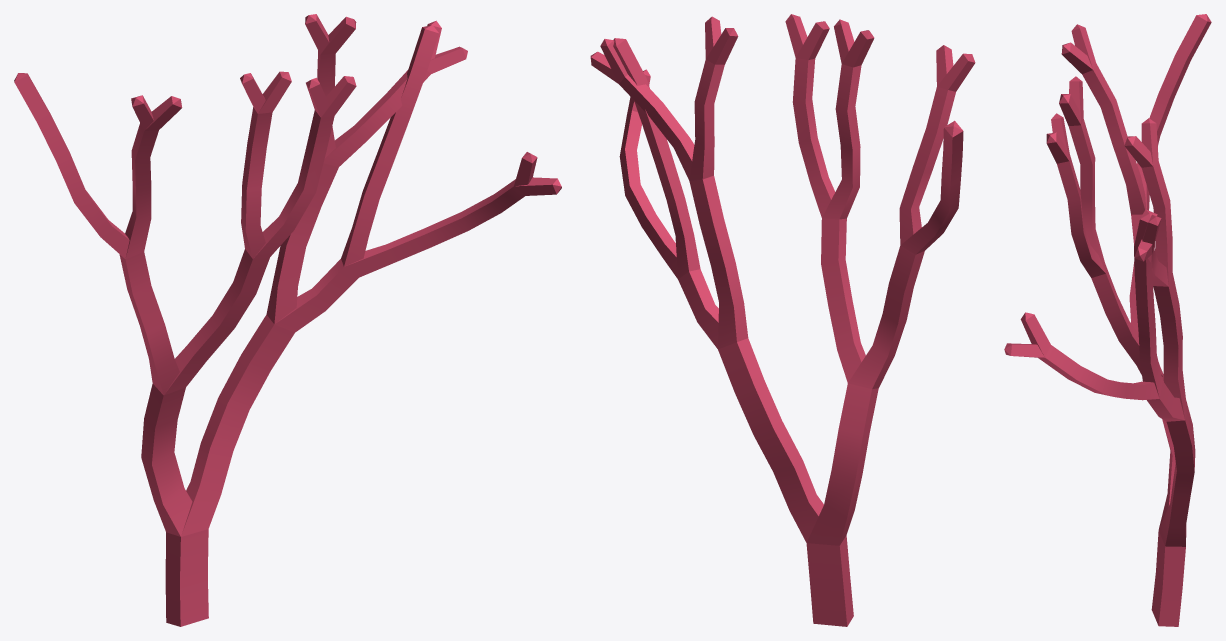
Rendered from coral_D_ultralight.fbx.
3 views of the same model, side by side, from view 1: azimuth 30°, elevation 25°; view 2: azimuth 150°, elevation 25°; view 3: azimuth 270°, elevation 25° (orthographic). The views are drawn at different scales.
Visible parts, largest first — view 1: coral_D_ultralight; view 2: coral_D_ultralight; view 3: coral_D_ultralight.
Boxes of the visible parts, x1,y1,x2,y2 form: coral_D_ultralight: (14, 14, 561, 626); coral_D_ultralight: (590, 14, 975, 626); coral_D_ultralight: (1004, 14, 1211, 626).
Bounding box in the file's own units: 128 × 161 × 54.47.
